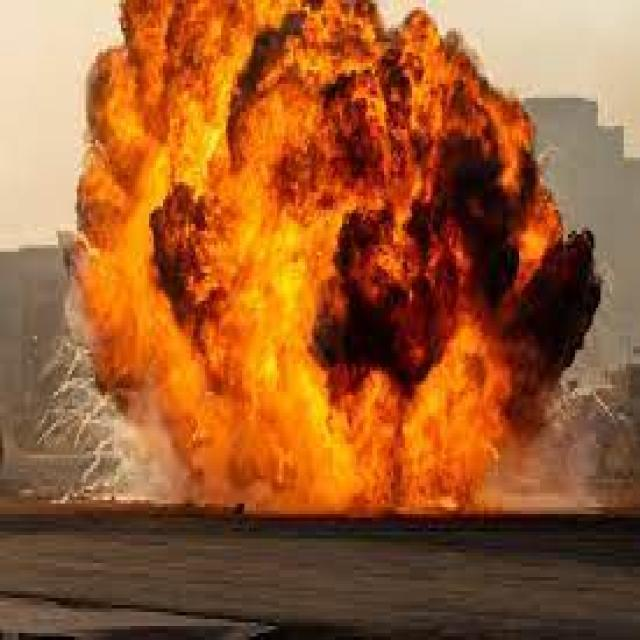fire: (58, 0, 521, 504)
